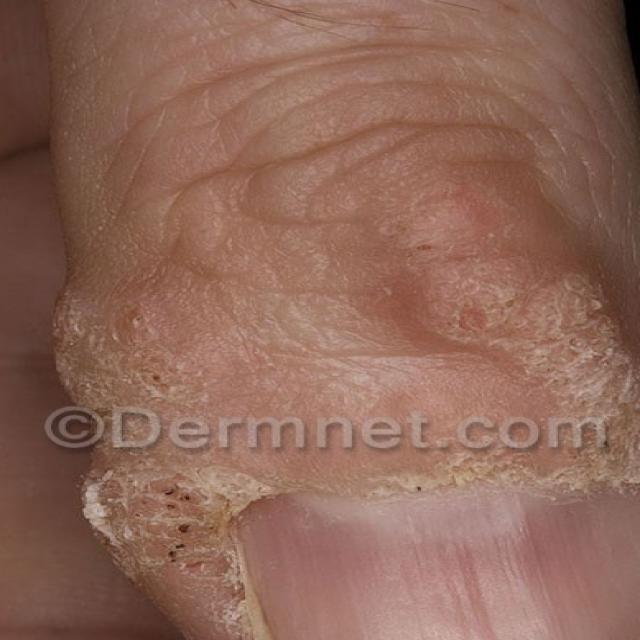Warts: (22, 258, 305, 626), (383, 126, 640, 436)
